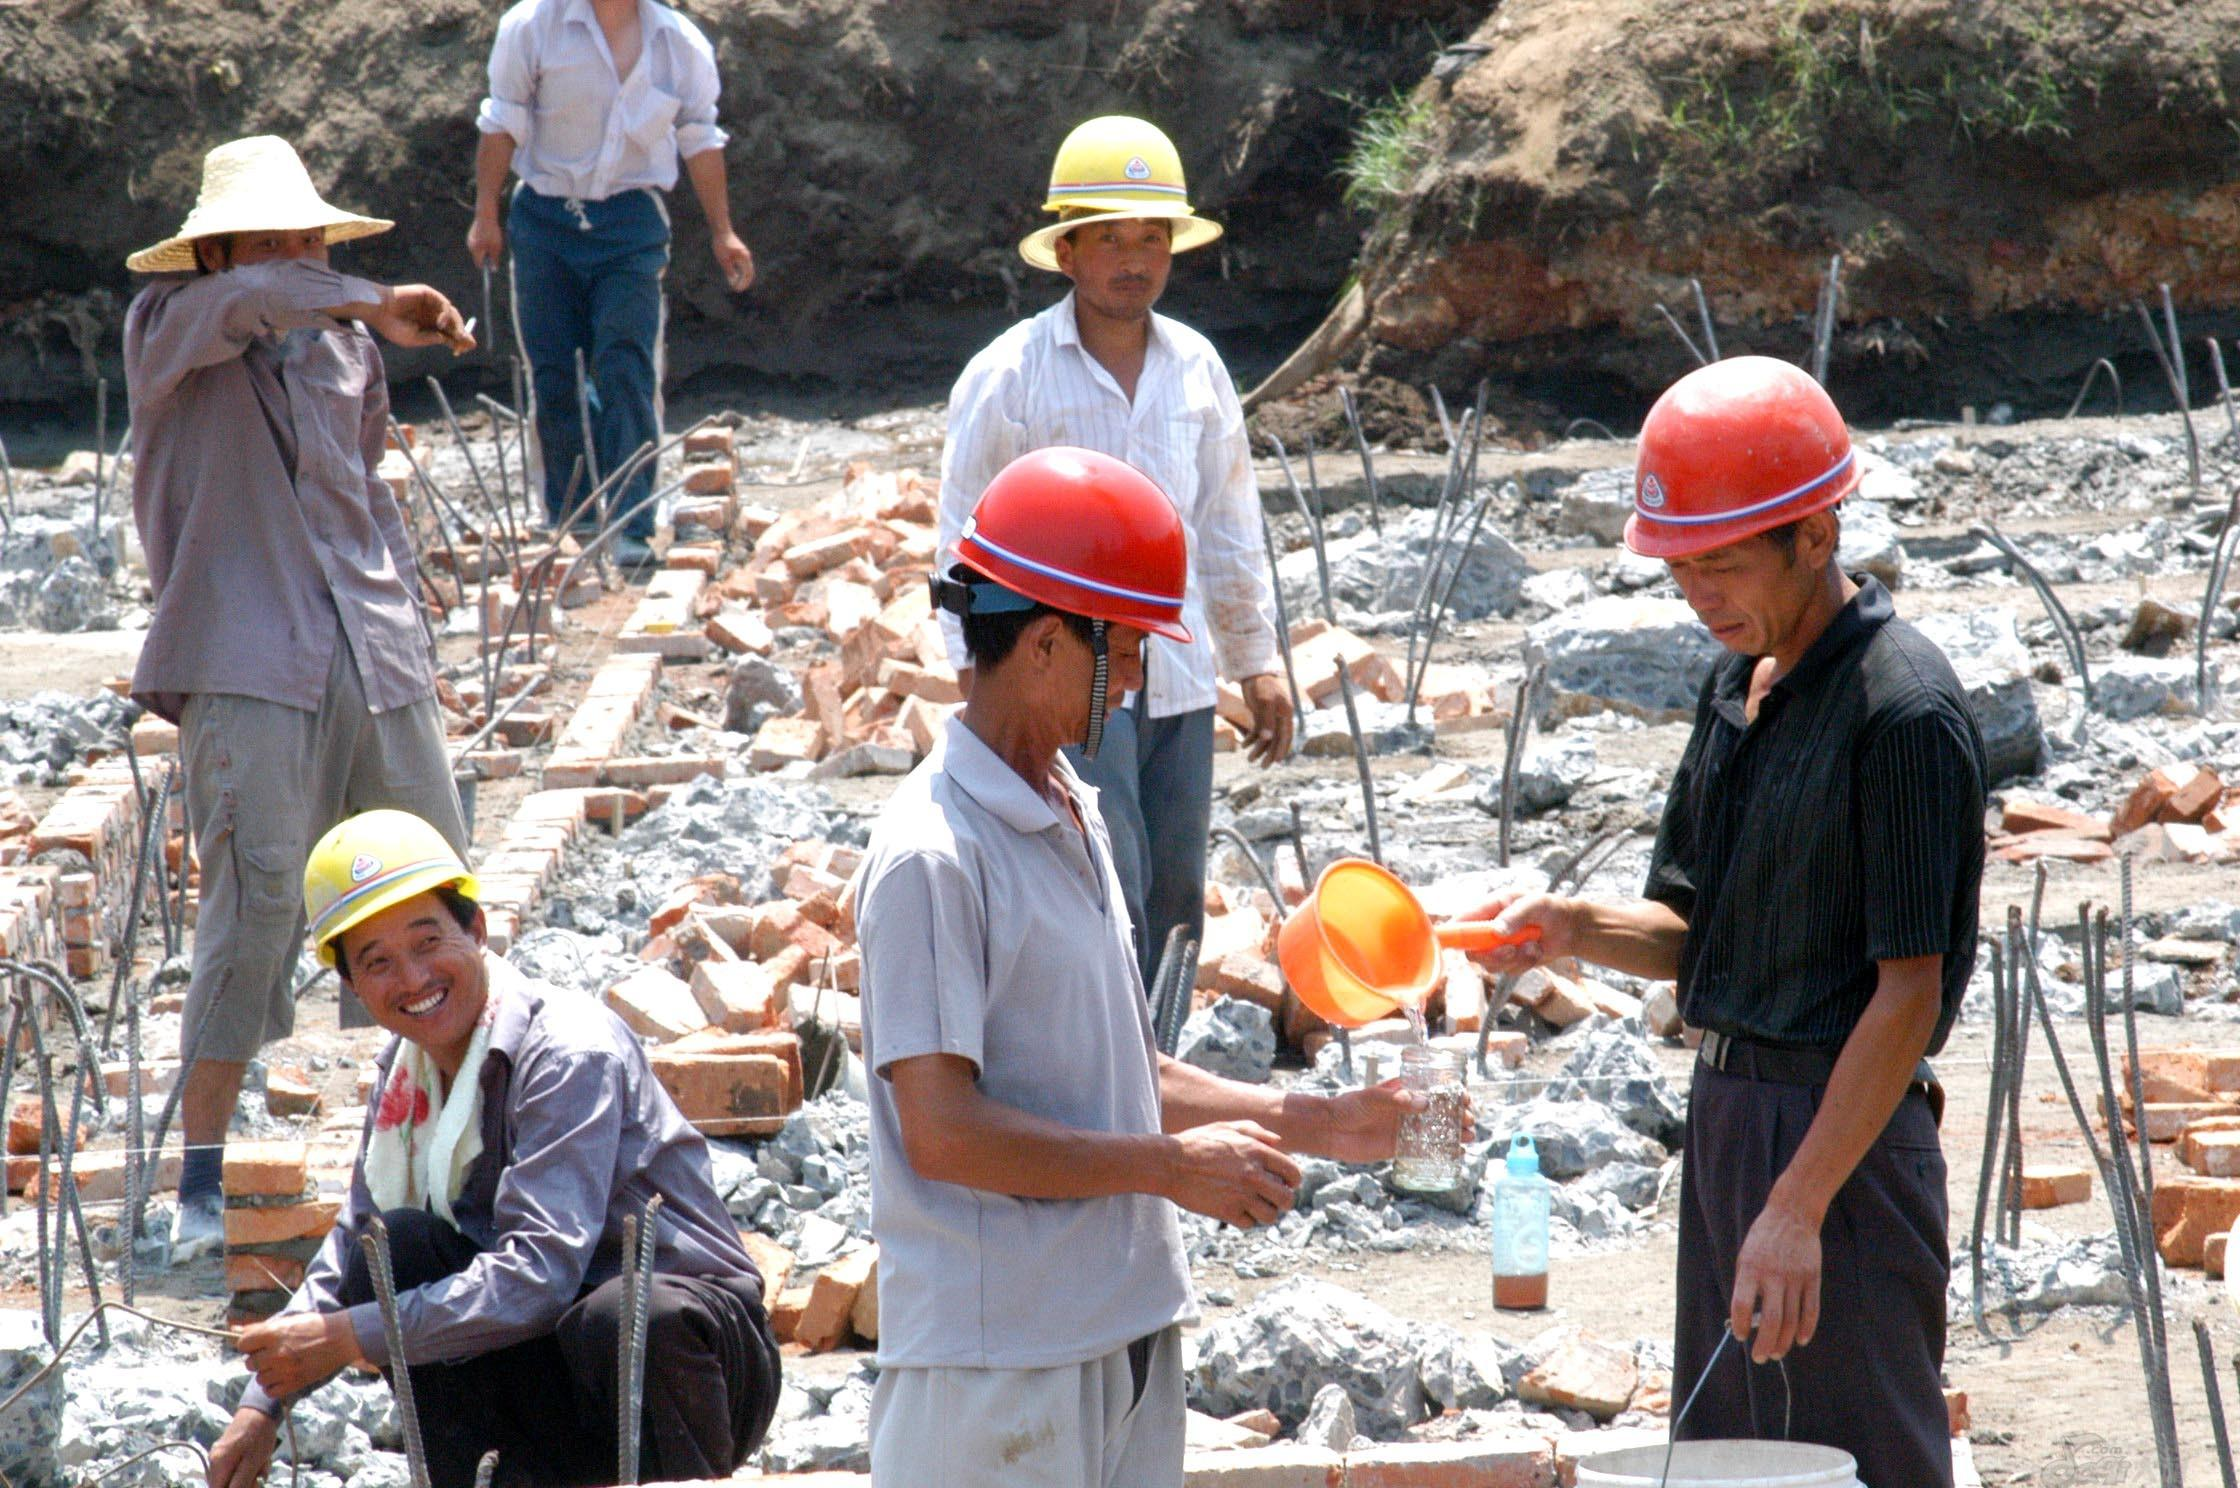helmet: (955, 453, 1210, 648), (1622, 350, 1860, 555), (126, 135, 390, 267), (1023, 106, 1224, 262), (297, 812, 475, 967)
